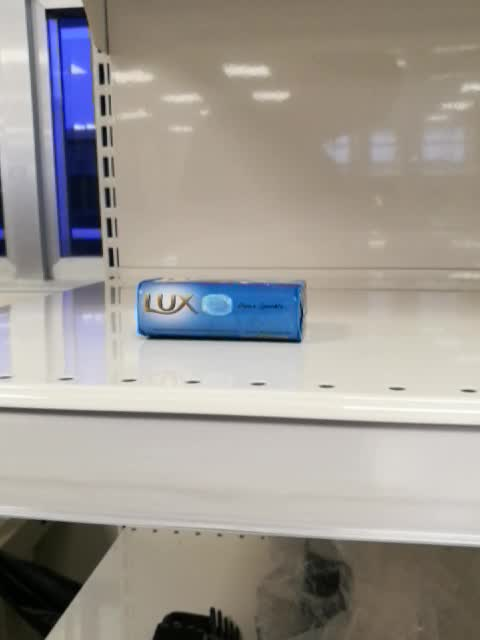soap: (135, 277, 306, 345)
